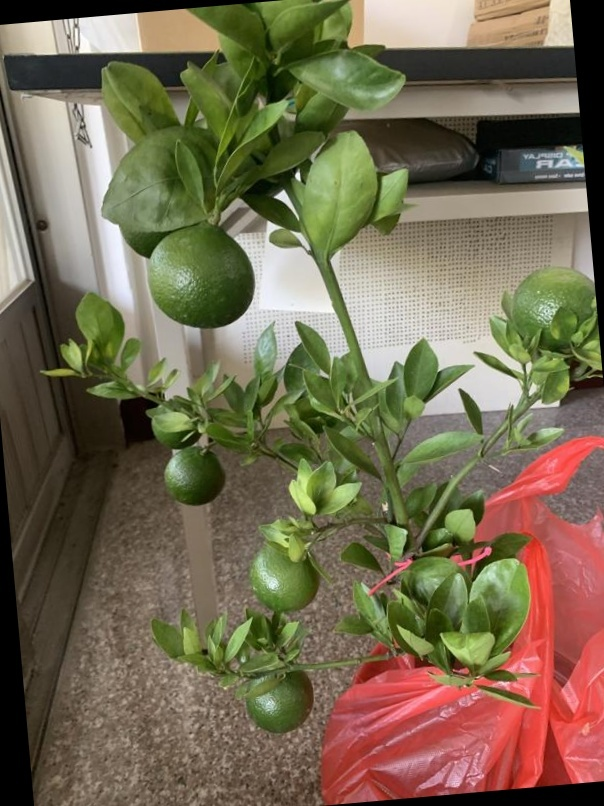Tangerine: (148, 227, 257, 329), (512, 260, 594, 353), (250, 537, 321, 610), (242, 673, 317, 734), (160, 448, 226, 507)
